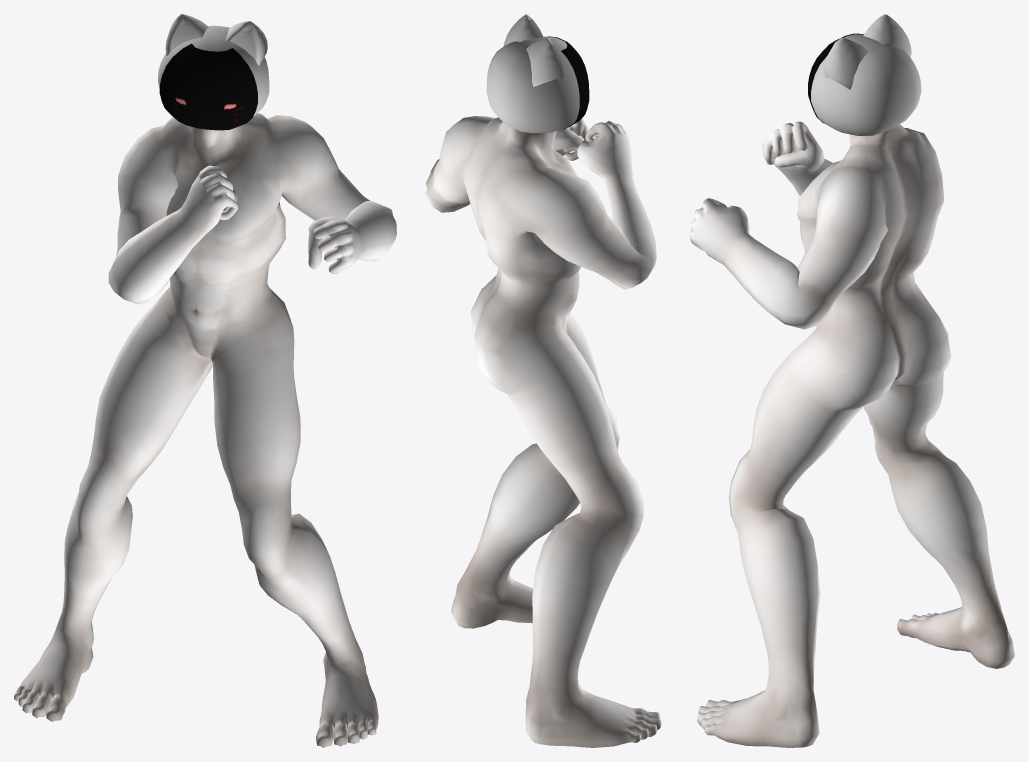
The picture shows the model from 3 angles, left to right: view 1: azimuth 30°, elevation 25°; view 2: azimuth 150°, elevation 25°; view 3: azimuth 270°, elevation 25°; orthographic projection. The views are drawn at different scales.
Parts seen in each view (by area): view 1: Muscle_Body, ______?001, Cat_Head; view 2: Muscle_Body, Cat_Head, ______?001; view 3: Muscle_Body, Cat_Head.
Boxes of the visible parts, x1=… form: Muscle_Body: x1=14, y1=113, x2=396, y2=747; ______?001: x1=159, y1=43, x2=257, y2=130; Cat_Head: x1=158, y1=14, x2=269, y2=116; Muscle_Body: x1=425, y1=116, x2=661, y2=747; Cat_Head: x1=486, y1=14, x2=579, y2=133; ______?001: x1=548, y1=36, x2=589, y2=129; Muscle_Body: x1=690, y1=121, x2=1014, y2=747; Cat_Head: x1=811, y1=14, x2=921, y2=135.
Size of the model in its own units: 12.84 by 27.68 by 12.03.
